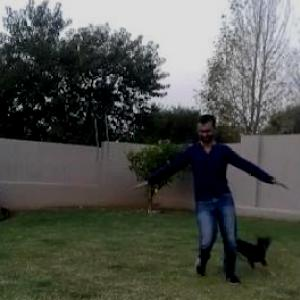land: (124, 110, 285, 289)
